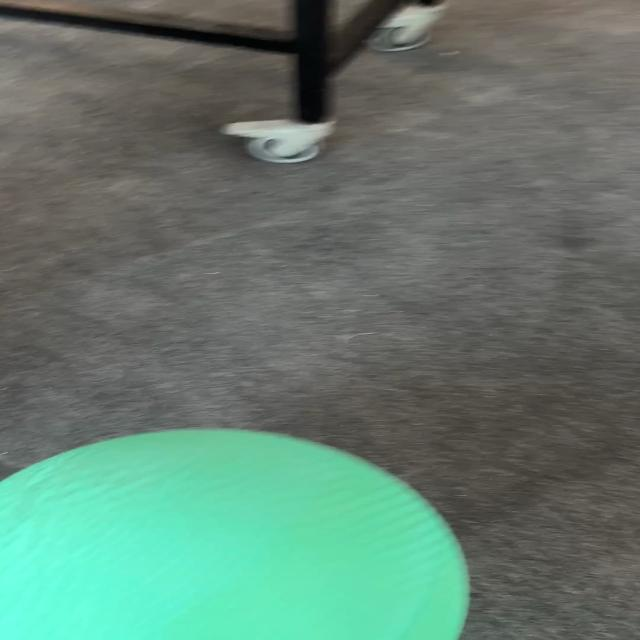Algae: (1, 426, 471, 639)
